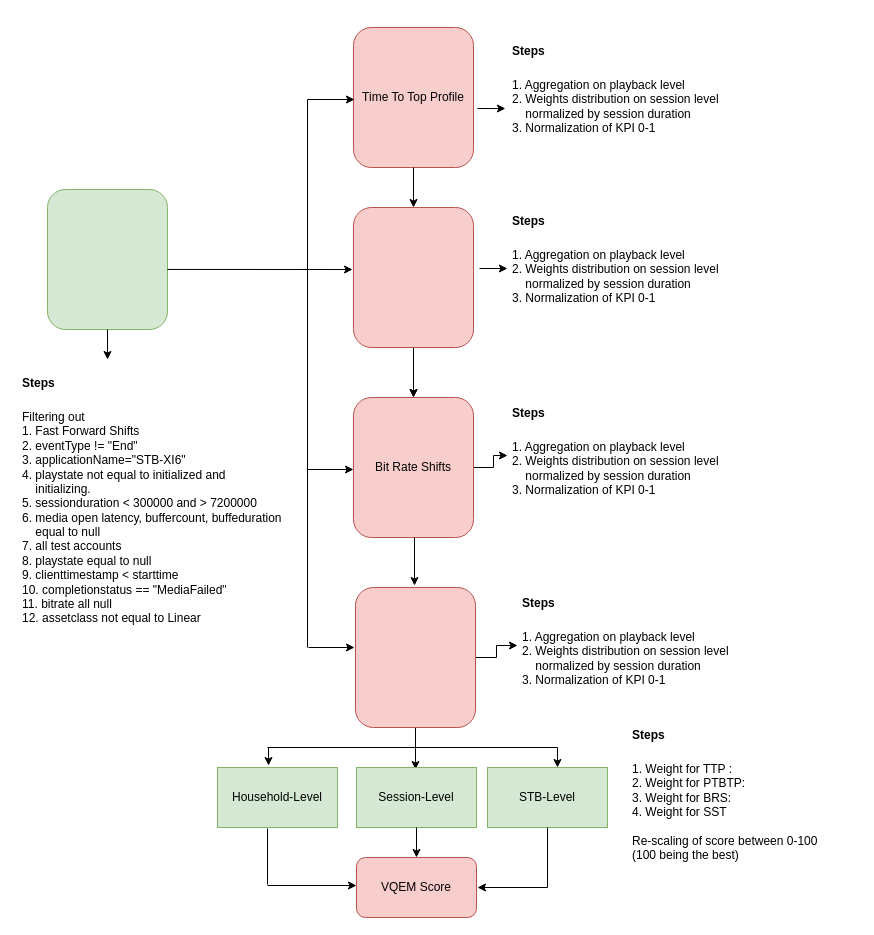
This 874x935 diagram has some shape labels left out. The shapes that lost their labels are listed below. From the top down, each one's box as (x1, y1, x2, y2) in pixels, then its label:
(46, 188, 168, 330): Preprocessing (Filteration, Noise Cleaning)
(352, 206, 474, 348): Percentage of Time Below Top Profile
(354, 586, 476, 728): Session Startup Time
